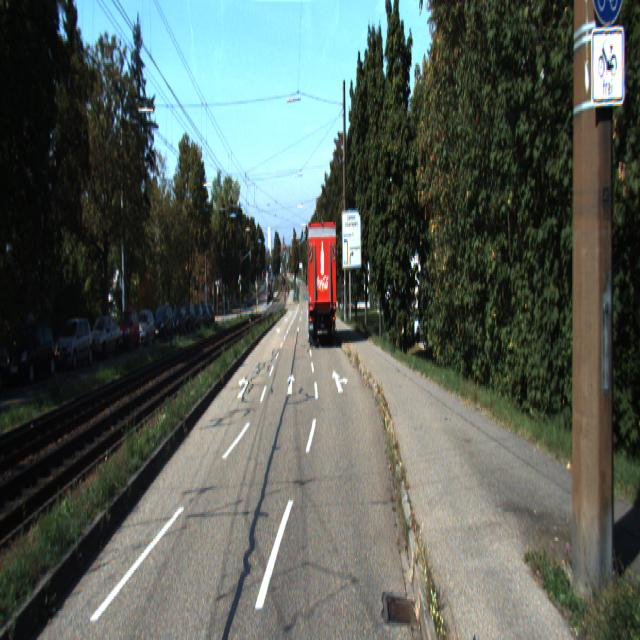Car: (6, 318, 56, 386), (54, 318, 94, 372), (86, 316, 122, 362), (116, 308, 141, 353), (0, 325, 12, 398), (134, 311, 155, 348)
DontCare: (155, 302, 215, 338)
Truck: (305, 221, 338, 351)
